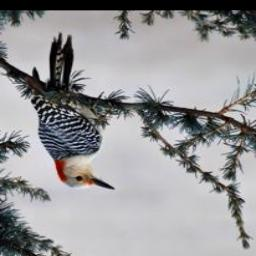Woodpecker: (31, 34, 116, 191)
